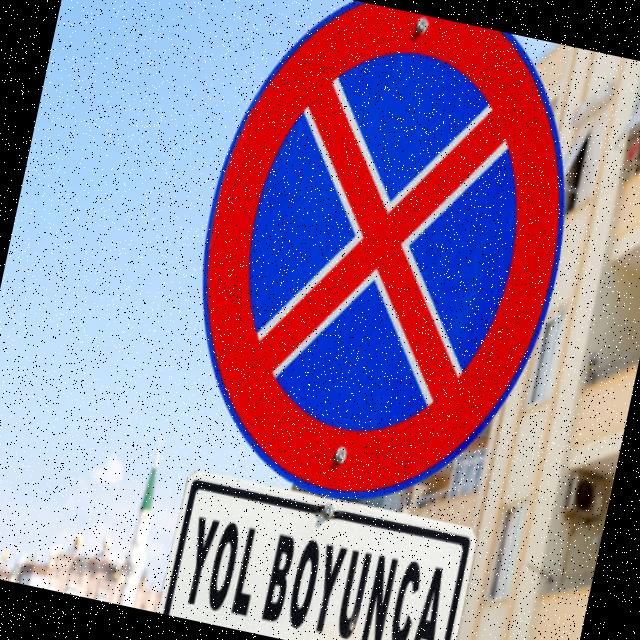no_parking: (122, 0, 616, 545)
